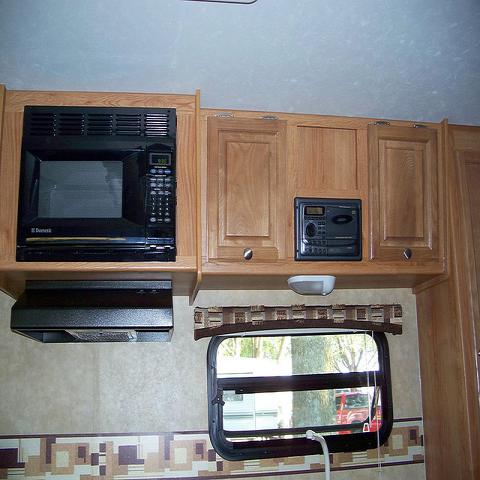truck: (335, 393, 384, 436)
